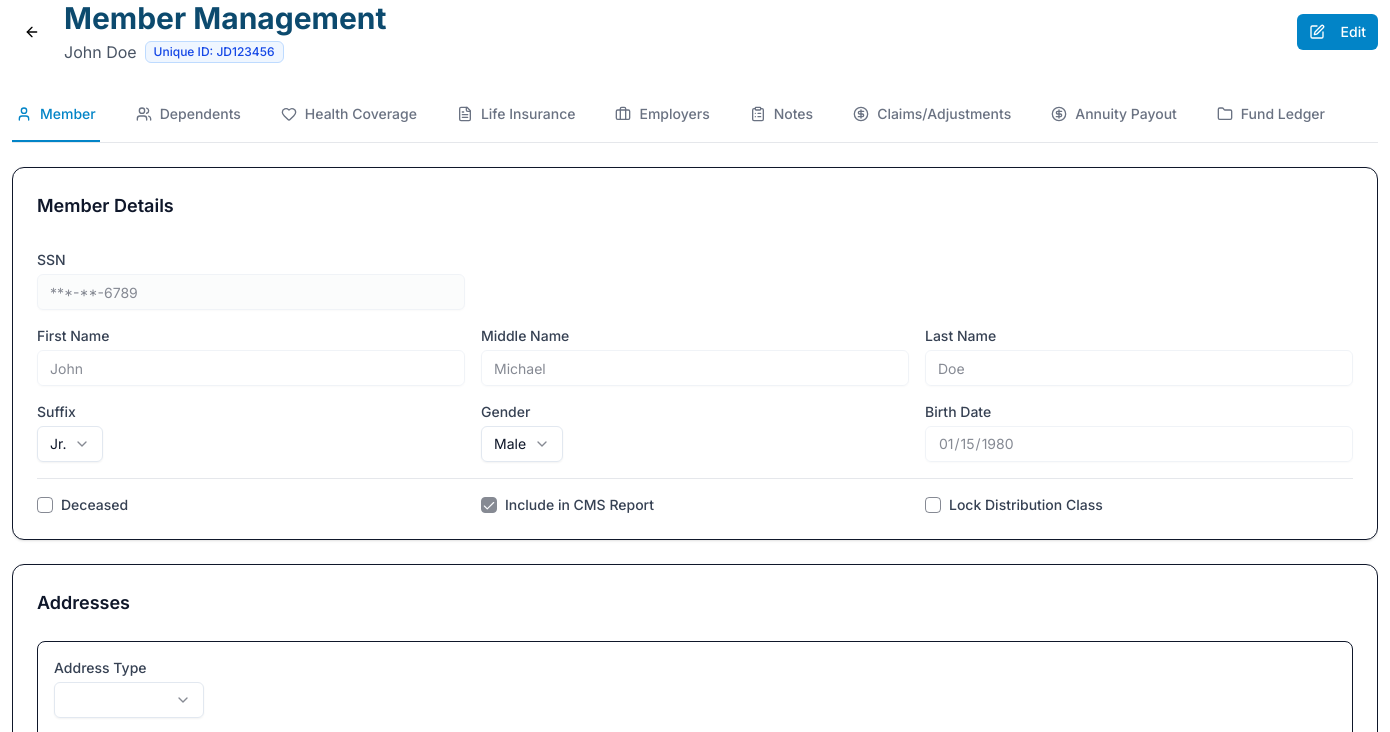
Test: MemberDetailPage › Fund Ledger › should fetch and display ledger entries when fund ledger tab is selected
Note: Switch to fund ledger tab
Click the button "Fund Ledger".
click(1271, 115)  # box [1213, 88, 1329, 142]
(page scrolled)
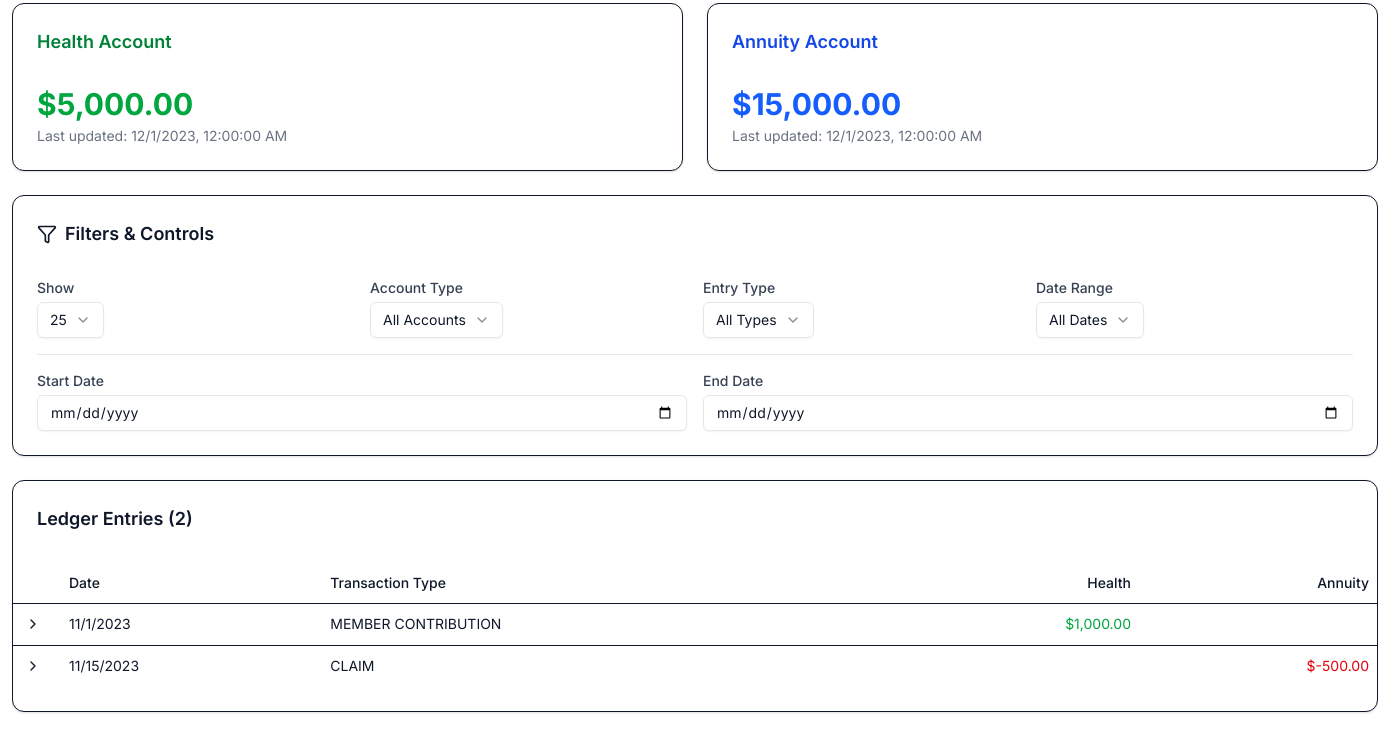
Expected: the text "$1,000.00" is shown, [1065, 615, 1131, 632]
Expected: the text "$-500.00" is shown, [1307, 657, 1369, 674]
